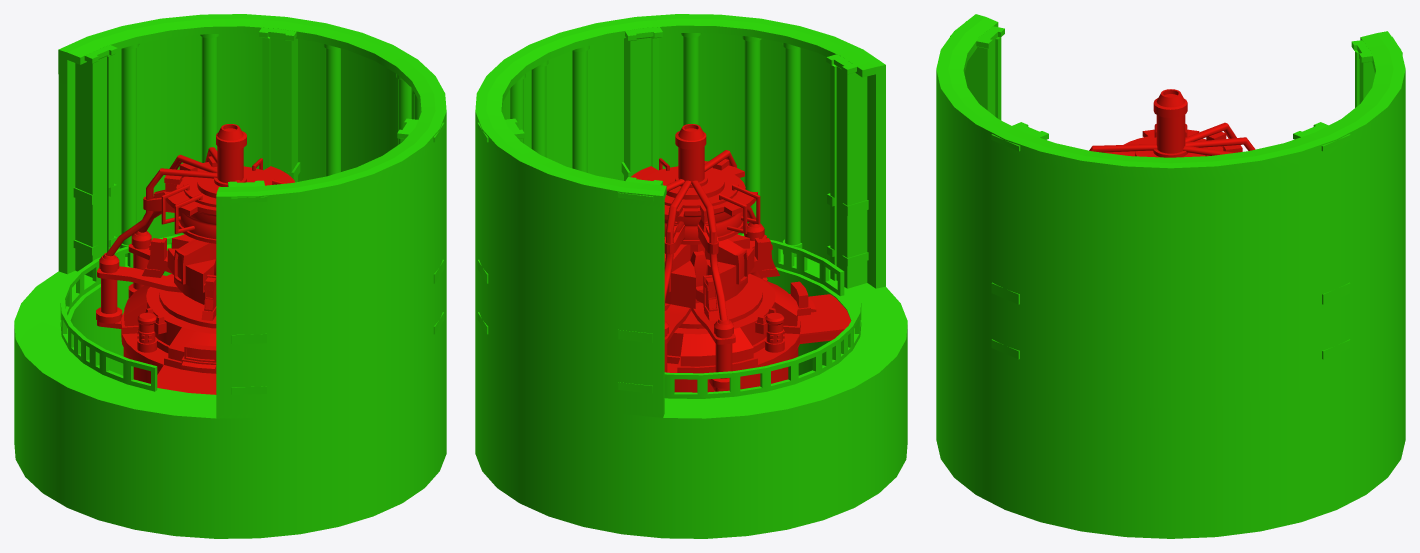
Rendered from The great blessed machine.fbx.
The picture shows the model from 3 angles, left to right: view 1: azimuth 30°, elevation 25°; view 2: azimuth 150°, elevation 25°; view 3: azimuth 270°, elevation 25°; orthographic projection. The views are drawn at different scales.
Visible parts, largest first — view 1: Machine base, Wall square conductor.002, Wall square conductor, Machine top, Wall pipe, Wall pipe.004, Wall pipe.003, Machine tip, Cell, Wall square conductor.003, Wire, Cell brace (+9 smaller); view 2: Machine base, Wall square conductor.003, Wall square conductor.001, Machine top, Wall pipe.002, Wall pipe.008, Wall pipe.006, Machine tip, Wall pipe.007, Wall pipe.005, Wire, Cell (+11 smaller); view 3: Machine base, Wall square conductor.003, Machine tip, Wall square conductor.002, Wall square conductor.001, Wall square conductor, Machine top.
Part boxes in pixels (bbox=[...]): Machine base: bbox=[14, 14, 446, 538]; Wall square conductor.002: bbox=[73, 45, 117, 277]; Wall square conductor: bbox=[259, 27, 300, 182]; Machine top: bbox=[164, 162, 294, 243]; Wall pipe: bbox=[119, 43, 139, 256]; Wall pipe.004: bbox=[323, 44, 340, 176]; Wall pipe.003: bbox=[200, 34, 219, 162]; Machine tip: bbox=[216, 124, 246, 183]; Cell: bbox=[96, 252, 122, 323]; Wall square conductor.003: bbox=[228, 180, 267, 395]; Wire: bbox=[105, 168, 217, 256]; Cell brace: bbox=[97, 266, 181, 292]; Machine base: bbox=[475, 14, 907, 538]; Wall square conductor.003: bbox=[826, 54, 868, 288]; Wall square conductor.001: bbox=[621, 27, 662, 180]; Machine top: bbox=[631, 161, 757, 244]; Wall pipe.002: bbox=[782, 43, 802, 256]; Wall pipe.008: bbox=[742, 36, 761, 234]; Wall pipe.006: bbox=[572, 45, 589, 172]; Machine tip: bbox=[675, 124, 706, 182]; Wall pipe.007: bbox=[681, 33, 701, 125]; Wall pipe.005: bbox=[531, 60, 548, 157]; Wire: bbox=[691, 180, 727, 320]; Cell: bbox=[711, 318, 733, 388]; Machine base: bbox=[936, 14, 1405, 538]; Wall square conductor.003: bbox=[950, 21, 1004, 119]; Machine tip: bbox=[1153, 89, 1187, 153]; Wall square conductor.002: bbox=[1351, 36, 1402, 107]; Wall square conductor.001: bbox=[991, 122, 1048, 359]; Wall square conductor: bbox=[1293, 122, 1350, 359]; Machine top: bbox=[1115, 129, 1223, 157].
Size of the model in its own units: 19.81 by 17.25 by 19.81.
